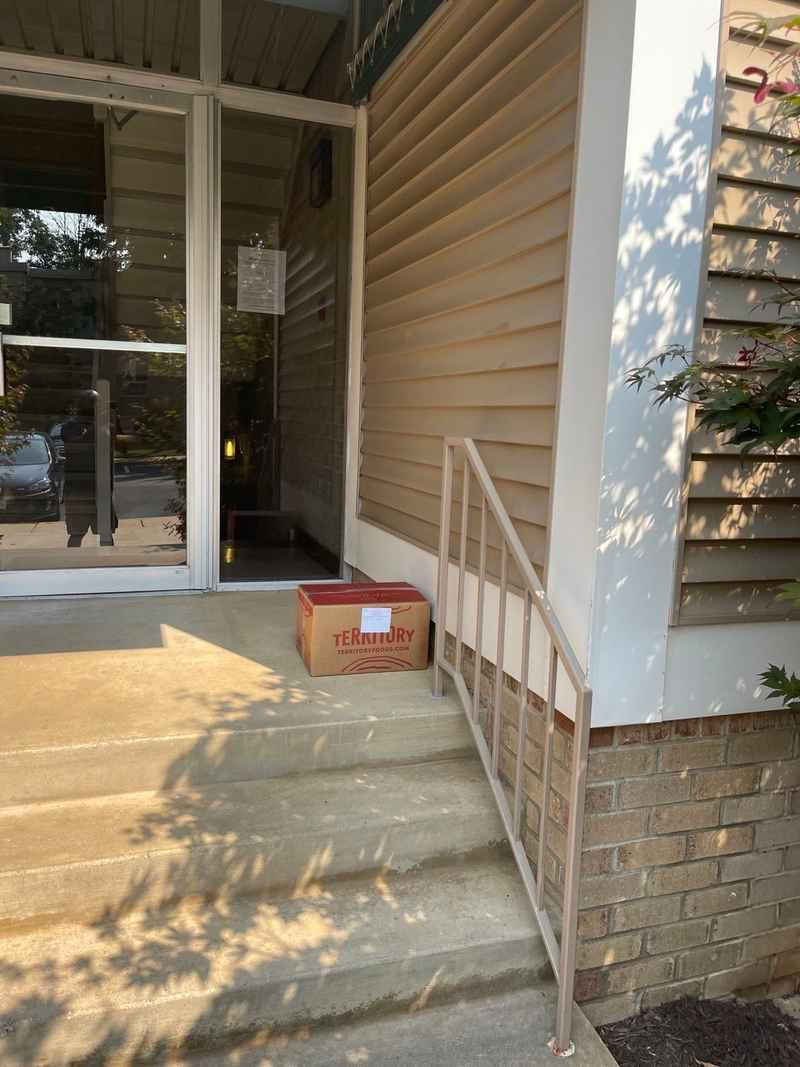package: (290, 575, 431, 682)
